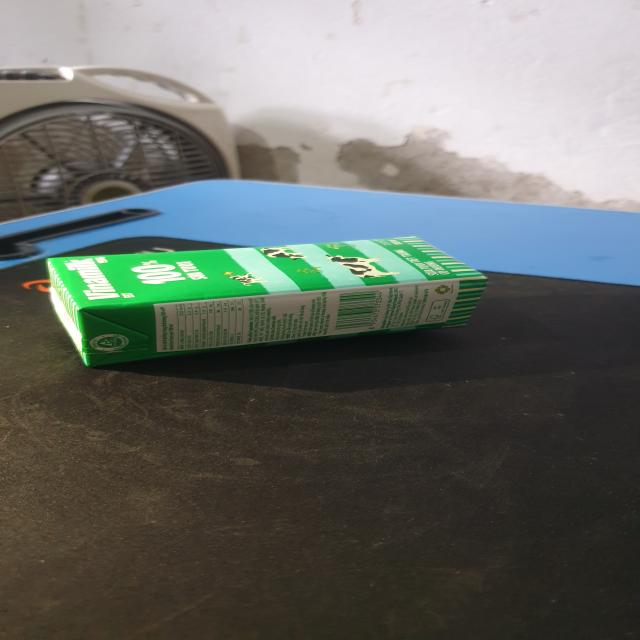Vina: (46, 235, 496, 370)
